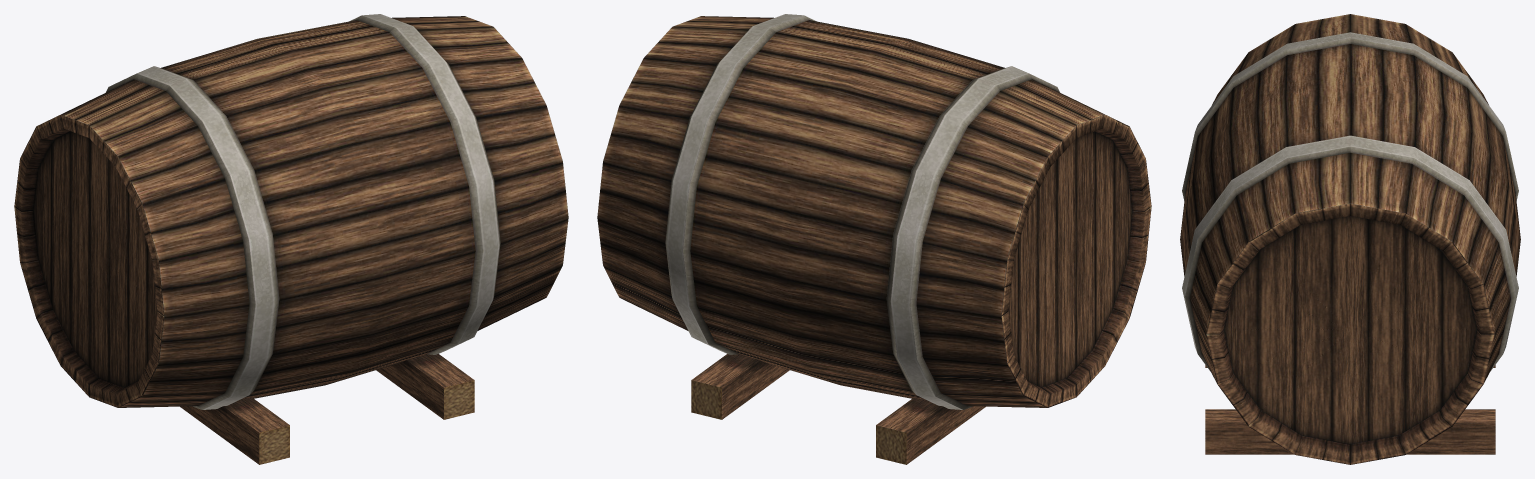
The model's file is barrel.fbx.
3 renders of one model, left to right at view 1: azimuth 30°, elevation 25°; view 2: azimuth 150°, elevation 25°; view 3: azimuth 270°, elevation 25°, orthographic. The views are drawn at different scales.
Visible parts, largest first — view 1: pCube6; view 2: pCube6; view 3: pCube6.
Boxes of the visible parts, x1=… form: pCube6: x1=14, y1=14, x2=568, y2=464; pCube6: x1=597, y1=14, x2=1151, y2=464; pCube6: x1=1180, y1=14, x2=1520, y2=464.
Size of the model in its own units: 263 by 206 by 200.
Materials: 1 (1 with a texture image).
